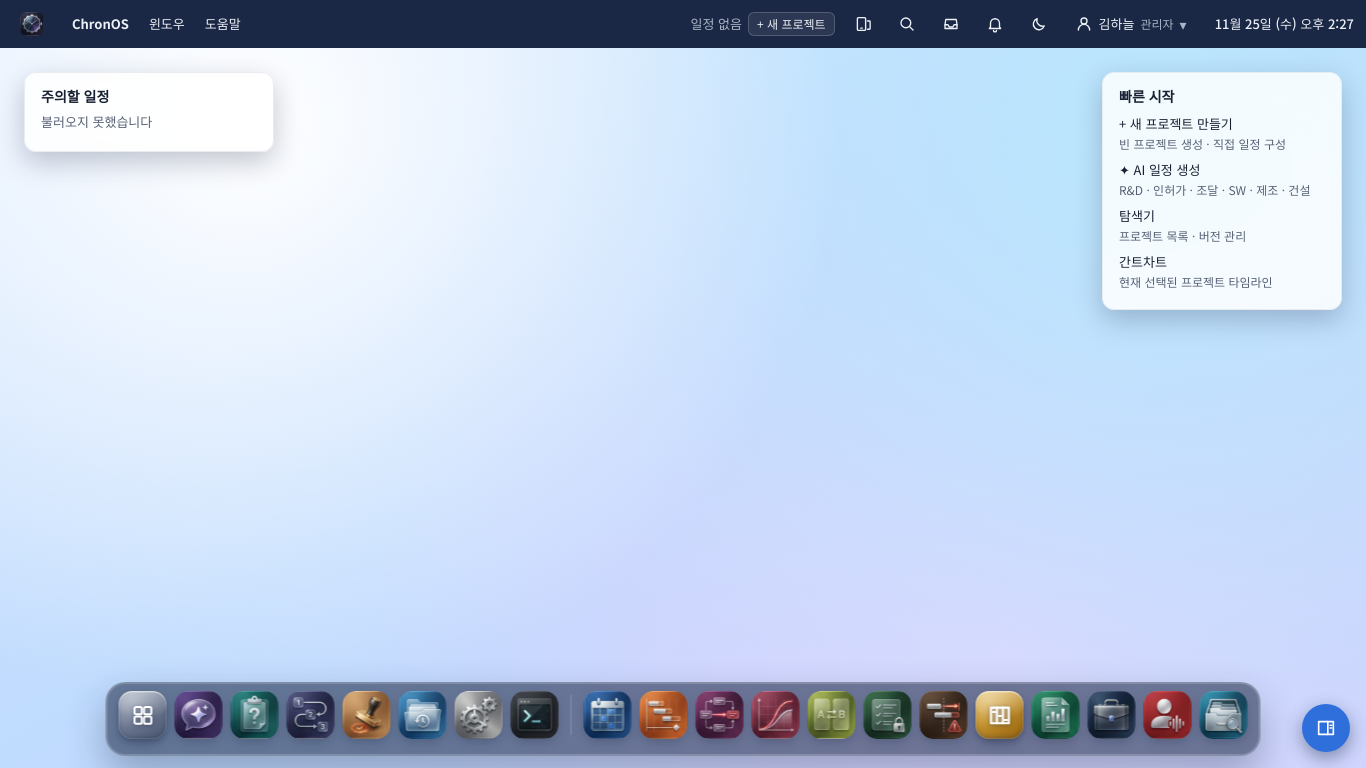
the theme button toggles data-theme and remembers it per user
The width and height of the screenshot is (1366, 768).
Step 1. Click the button named "어두운 테마로" → (1039,24), box [1023,8,1055,40]
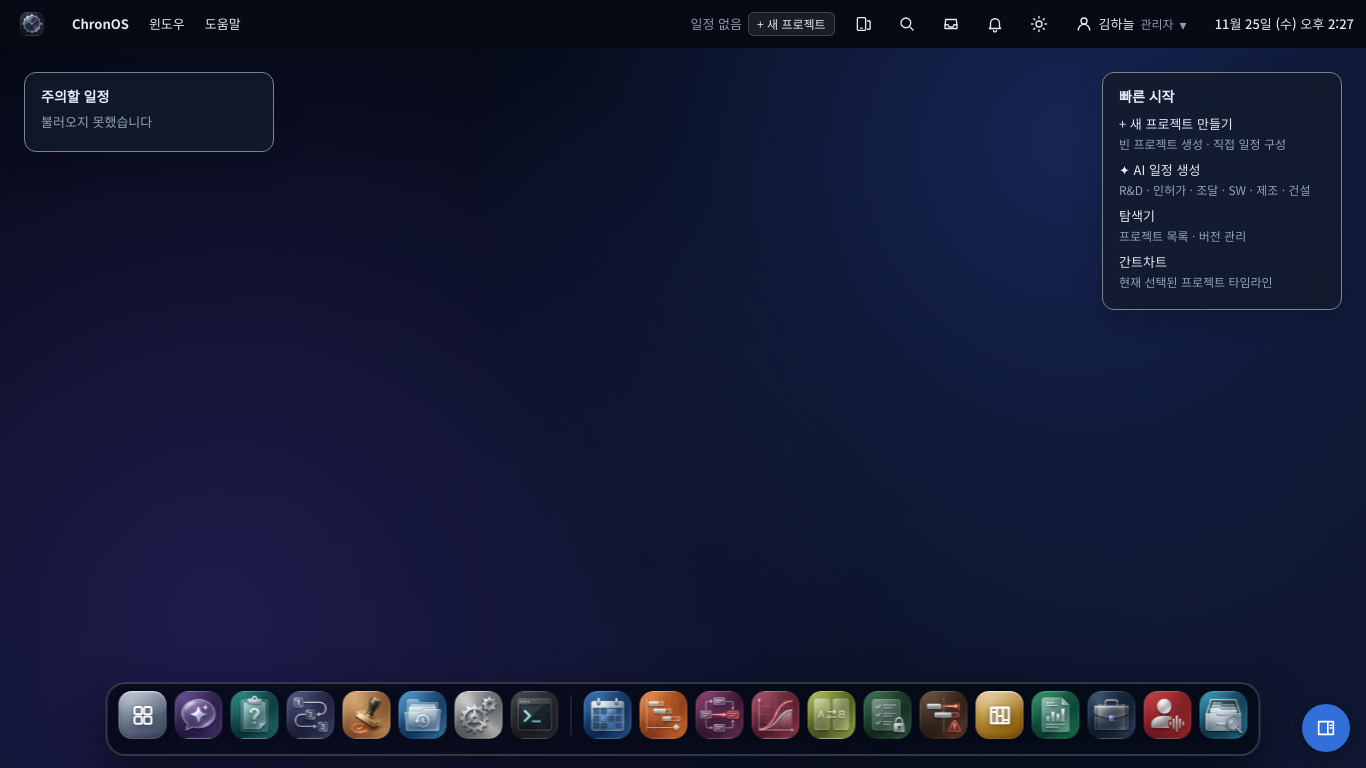
Check: the button named "밝은 테마로" is shown, box [1023,8,1055,40]
